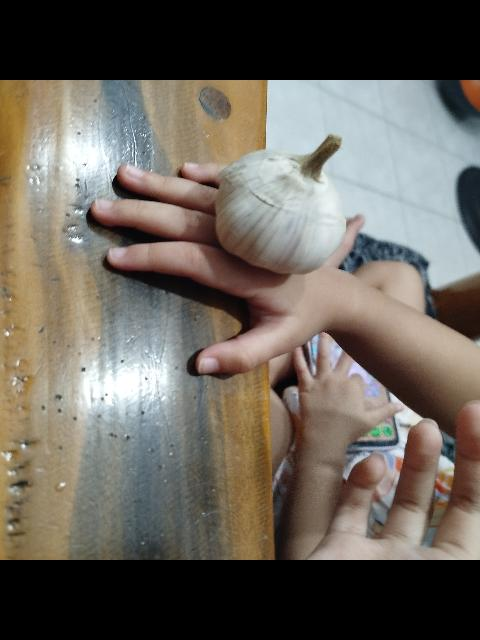garlic: (214, 134, 346, 276)
